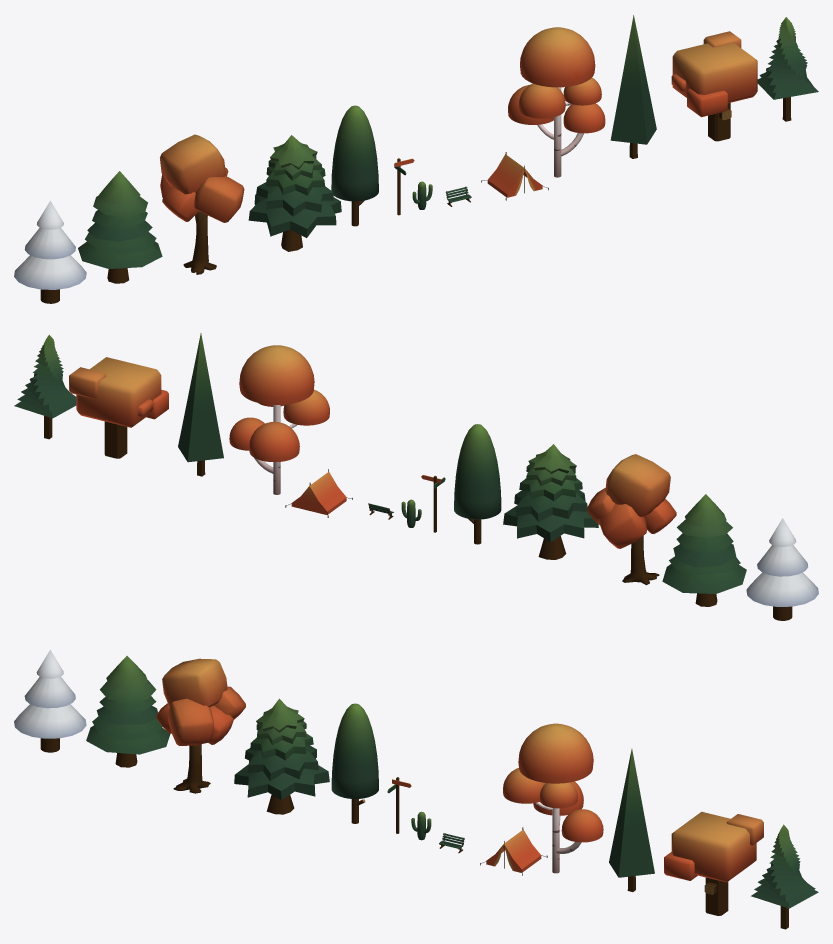
Rendered from Low Poly assets.fbx.
3 renders of one model, top to bottom at view 1: azimuth 30°, elevation 25°; view 2: azimuth 150°, elevation 25°; view 3: azimuth 330°, elevation 25°, orthographic.
Visible parts, largest first — view 1: Tree07, Tree03, Tree04, Tree09, Tree02, Tree01, Tree05, Tree08, Tree06, Tent; view 2: Tree07, Tree03, Tree04, Tree09, Tree02, Tree01, Tree05, Tree08, Tree06, Tent; view 3: Tree07, Tree03, Tree04, Tree09, Tree02, Tree01, Tree05, Tree08, Tree06, Tent.
Boxes of the visible parts, <box> form: Tree07: <box>508,27,605,177</box>; Tree03: <box>160,134,244,274</box>; Tree04: <box>248,135,341,251</box>; Tree09: <box>671,31,757,141</box>; Tree02: <box>78,171,162,283</box>; Tree01: <box>14,200,86,303</box>; Tree05: <box>331,105,378,226</box>; Tree08: <box>610,15,656,158</box>; Tree06: <box>757,17,818,121</box>; Tent: <box>481,152,548,200</box>; Tree07: <box>229,345,329,494</box>; Tree03: <box>587,454,676,585</box>; Tree04: <box>503,444,598,559</box>; Tree09: <box>69,357,168,458</box>; Tree02: <box>662,494,746,606</box>; Tree01: <box>746,518,818,620</box>; Tree05: <box>454,424,501,544</box>; Tree08: <box>178,333,223,476</box>; Tree06: <box>14,334,76,439</box>; Tent: <box>285,469,352,517</box>; Tree07: <box>503,723,603,873</box>; Tree03: <box>156,658,245,793</box>; Tree04: <box>234,698,329,814</box>; Tree09: <box>664,811,763,915</box>; Tree02: <box>86,656,170,767</box>; Tree01: <box>14,649,86,752</box>; Tree05: <box>331,703,378,823</box>; Tree08: <box>609,748,654,891</box>; Tree06: <box>751,824,818,929</box>; Tent: <box>480,827,547,875</box>.
Bounding box in the file's own units: 747 × 131 × 90.59.
